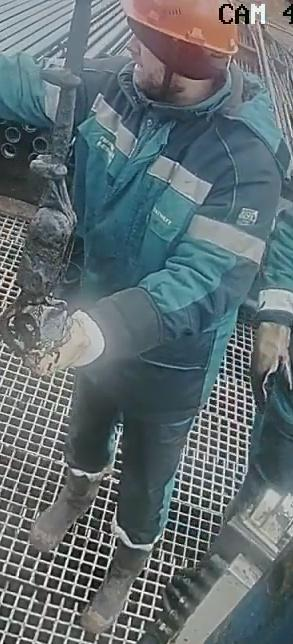gloves: (26, 306, 125, 375), (28, 466, 104, 552), (249, 301, 293, 408)
helmet: (118, 0, 239, 56)
vest: (67, 62, 289, 408)
